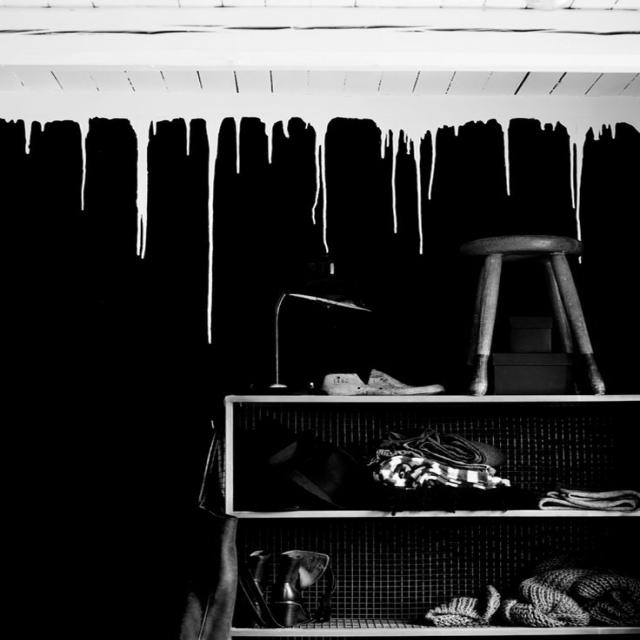paint drips: (0, 104, 640, 346)
